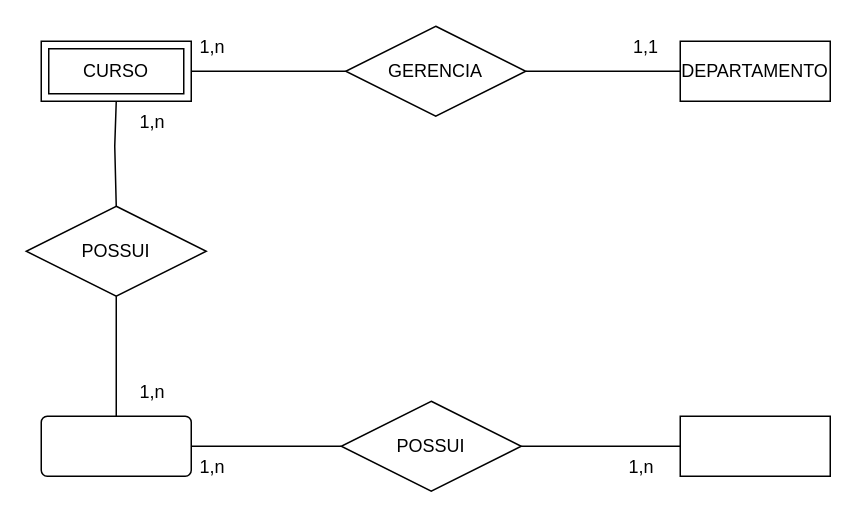
The diagram is 857 pixels wide and 522 high, and some of its shapes have lost their labels. Each missing label, with the box of its shape:
ALUNO: (679, 415, 830, 476)
DISCIPLINA: (40, 415, 191, 476)
